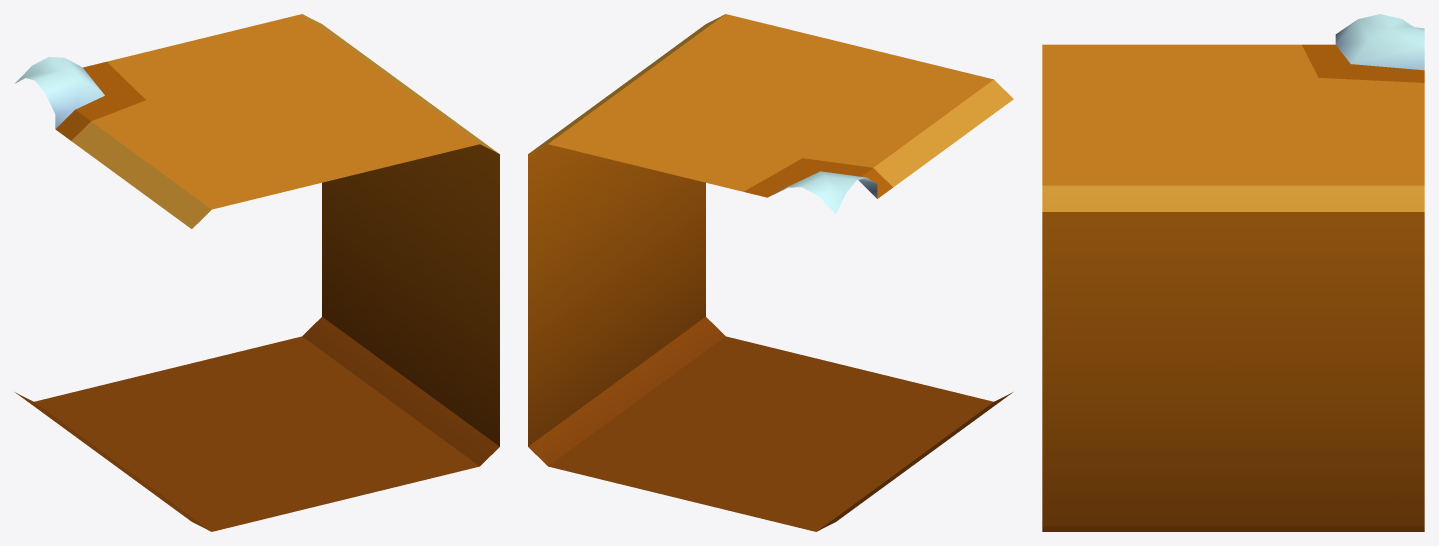
The model's file is mid_pool_2.fbx.
The picture shows the model from 3 angles, left to right: view 1: azimuth 30°, elevation 25°; view 2: azimuth 150°, elevation 25°; view 3: azimuth 270°, elevation 25°; orthographic projection. The views are drawn at different scales.
Parts seen in each view (by area): view 1: mid_pool_2; view 2: mid_pool_2; view 3: mid_pool_2.
Boxes of the visible parts, x1,y1,x2,y2 form: mid_pool_2: (15, 14, 499, 531); mid_pool_2: (528, 14, 1013, 531); mid_pool_2: (1042, 14, 1424, 531).
Bounding box in the file's own units: 2 × 2.12 × 2.
